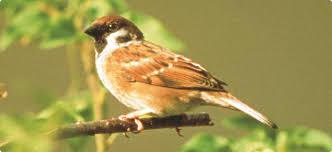hsparrow: (81, 14, 281, 139)
